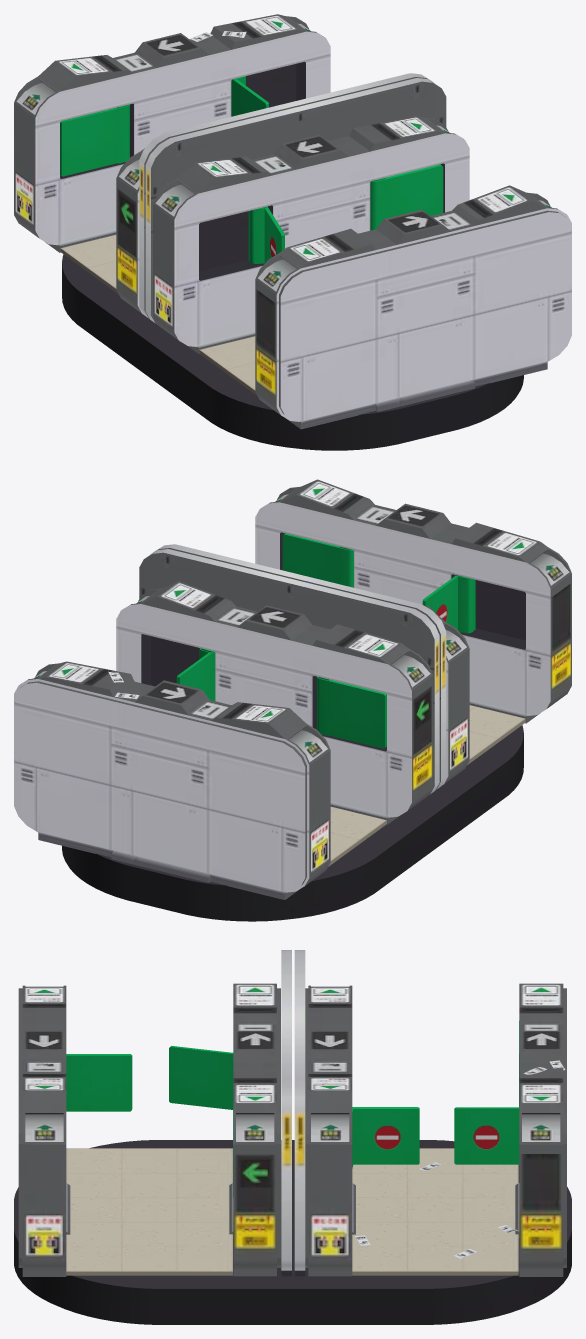
Rendered from ticket_gate.glb.
The picture shows the model from 3 angles, top to bottom: view 1: azimuth 30°, elevation 25°; view 2: azimuth 150°, elevation 25°; view 3: azimuth 270°, elevation 25°; orthographic projection. The views are drawn at different scales.
Visible parts, largest first — view 1: polySurface6, polySurface3, polySurface8, pCube9, pCube11, polySurface5, polySurface4, polySurface7, pCube13, pCube15, pCube2, polySurface10 (+5 smaller); view 2: polySurface8, polySurface10, polySurface6, pCube9, pCube2, polySurface5, polySurface9, polySurface7, pCube5, pCube11, polySurface3, pCube16 (+5 smaller); view 3: pCube9, pCube12, pCube4, polySurface6, polySurface8, polySurface3, polySurface9, polySurface5, polySurface7, polySurface10, polySurface4, pCube10 (+5 smaller).
Boxes of the visible parts, x1=… form: polySurface6: x1=255, y1=208, x2=571, y2=429; polySurface3: x1=153, y1=133, x2=469, y2=353; polySurface8: x1=14, y1=31, x2=330, y2=252; pCube9: x1=62, y1=254, x2=523, y2=450; pCube11: x1=145, y1=78, x2=446, y2=323; polySurface5: x1=255, y1=185, x2=557, y2=294; polySurface4: x1=153, y1=116, x2=462, y2=219; polySurface7: x1=14, y1=14, x2=323, y2=117; pCube13: x1=60, y1=104, x2=129, y2=176; pCube15: x1=370, y1=164, x2=443, y2=230; pCube2: x1=139, y1=73, x2=433, y2=318; polySurface10: x1=116, y1=178, x2=142, y2=313; polySurface8: x1=14, y1=679, x2=330, y2=899; polySurface10: x1=116, y1=604, x2=433, y2=824; polySurface6: x1=255, y1=502, x2=571, y2=723; pCube9: x1=62, y1=725, x2=523, y2=921; pCube2: x1=139, y1=549, x2=439, y2=794; polySurface5: x1=269, y1=479, x2=571, y2=588; polySurface9: x1=130, y1=581, x2=432, y2=690; polySurface7: x1=20, y1=661, x2=330, y2=765; pCube5: x1=317, y1=676, x2=386, y2=748; pCube11: x1=150, y1=544, x2=446, y2=789; polySurface3: x1=442, y1=649, x2=469, y2=784; pCube16: x1=282, y1=533, x2=353, y2=587; pCube9: x1=14, y1=1140, x2=571, y2=1324; pCube12: x1=66, y1=1148, x2=232, y2=1275; pCube4: x1=352, y1=1148, x2=518, y2=1275; polySurface6: x1=18, y1=988, x2=70, y2=1276; polySurface8: x1=515, y1=988, x2=566, y2=1276; polySurface3: x1=229, y1=988, x2=280, y2=1276; polySurface9: x1=308, y1=985, x2=352, y2=1144; polySurface5: x1=22, y1=985, x2=66, y2=1144; polySurface7: x1=519, y1=983, x2=563, y2=1144; polySurface10: x1=305, y1=988, x2=355, y2=1276; polySurface4: x1=233, y1=983, x2=276, y2=1144; pCube10: x1=352, y1=1107, x2=419, y2=1168.
Size of the model in its own units: 0.0652 by 0.0484 by 0.1033.
Materials: 4 (4 with a texture image).
